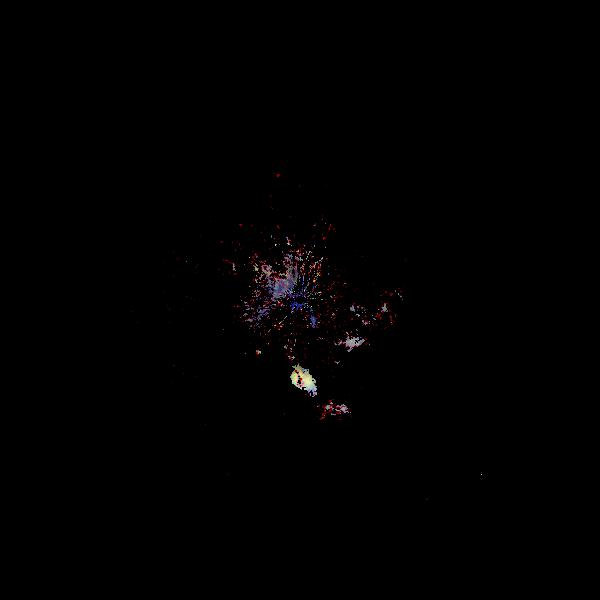roost: (272, 354, 338, 420)
